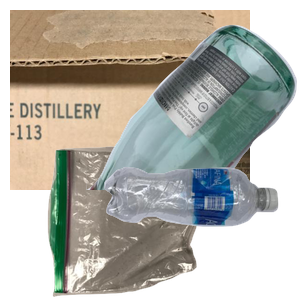cardboard: (10, 10, 250, 190)
glass: (86, 22, 300, 202)
plastic: (102, 165, 300, 300)
trash: (45, 144, 235, 300)
